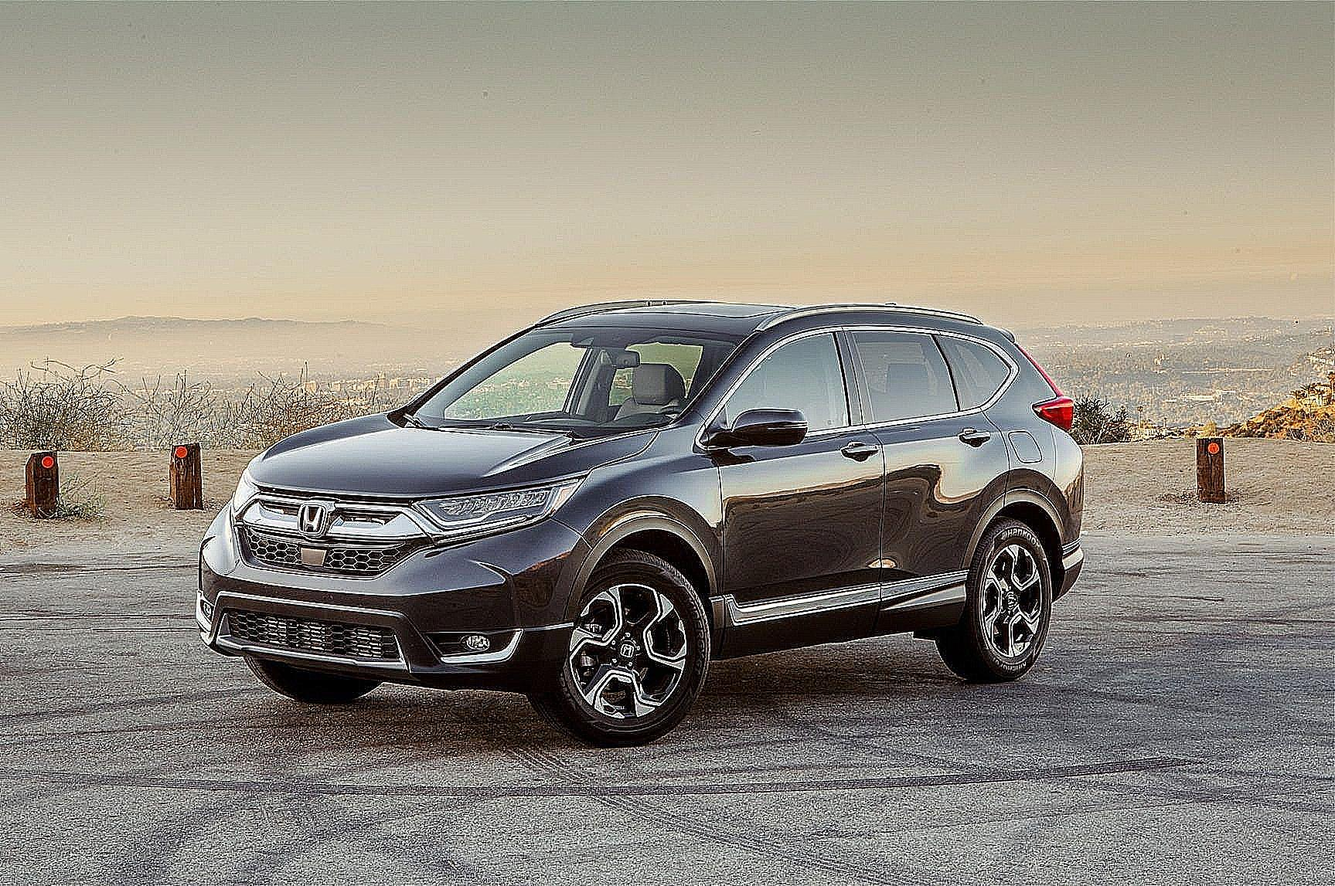Car hood: (244, 406, 662, 503)
Fender - -F-L-: (550, 406, 723, 648)
Fender - -R-L-: (974, 381, 1059, 519)
Front bumper: (190, 524, 582, 697)
Headlight - -L-: (401, 473, 589, 553)
Headlight - -R-: (226, 462, 268, 525)
Passenger-s door - -F-L-: (724, 318, 880, 611)
Passenger-s door - -R-L-: (879, 317, 1011, 607)
Rear bumper: (1052, 435, 1102, 603)
Rear light - -L-: (1009, 334, 1083, 434)
Side bumper - -L-: (702, 564, 983, 662), (725, 402, 810, 456)
